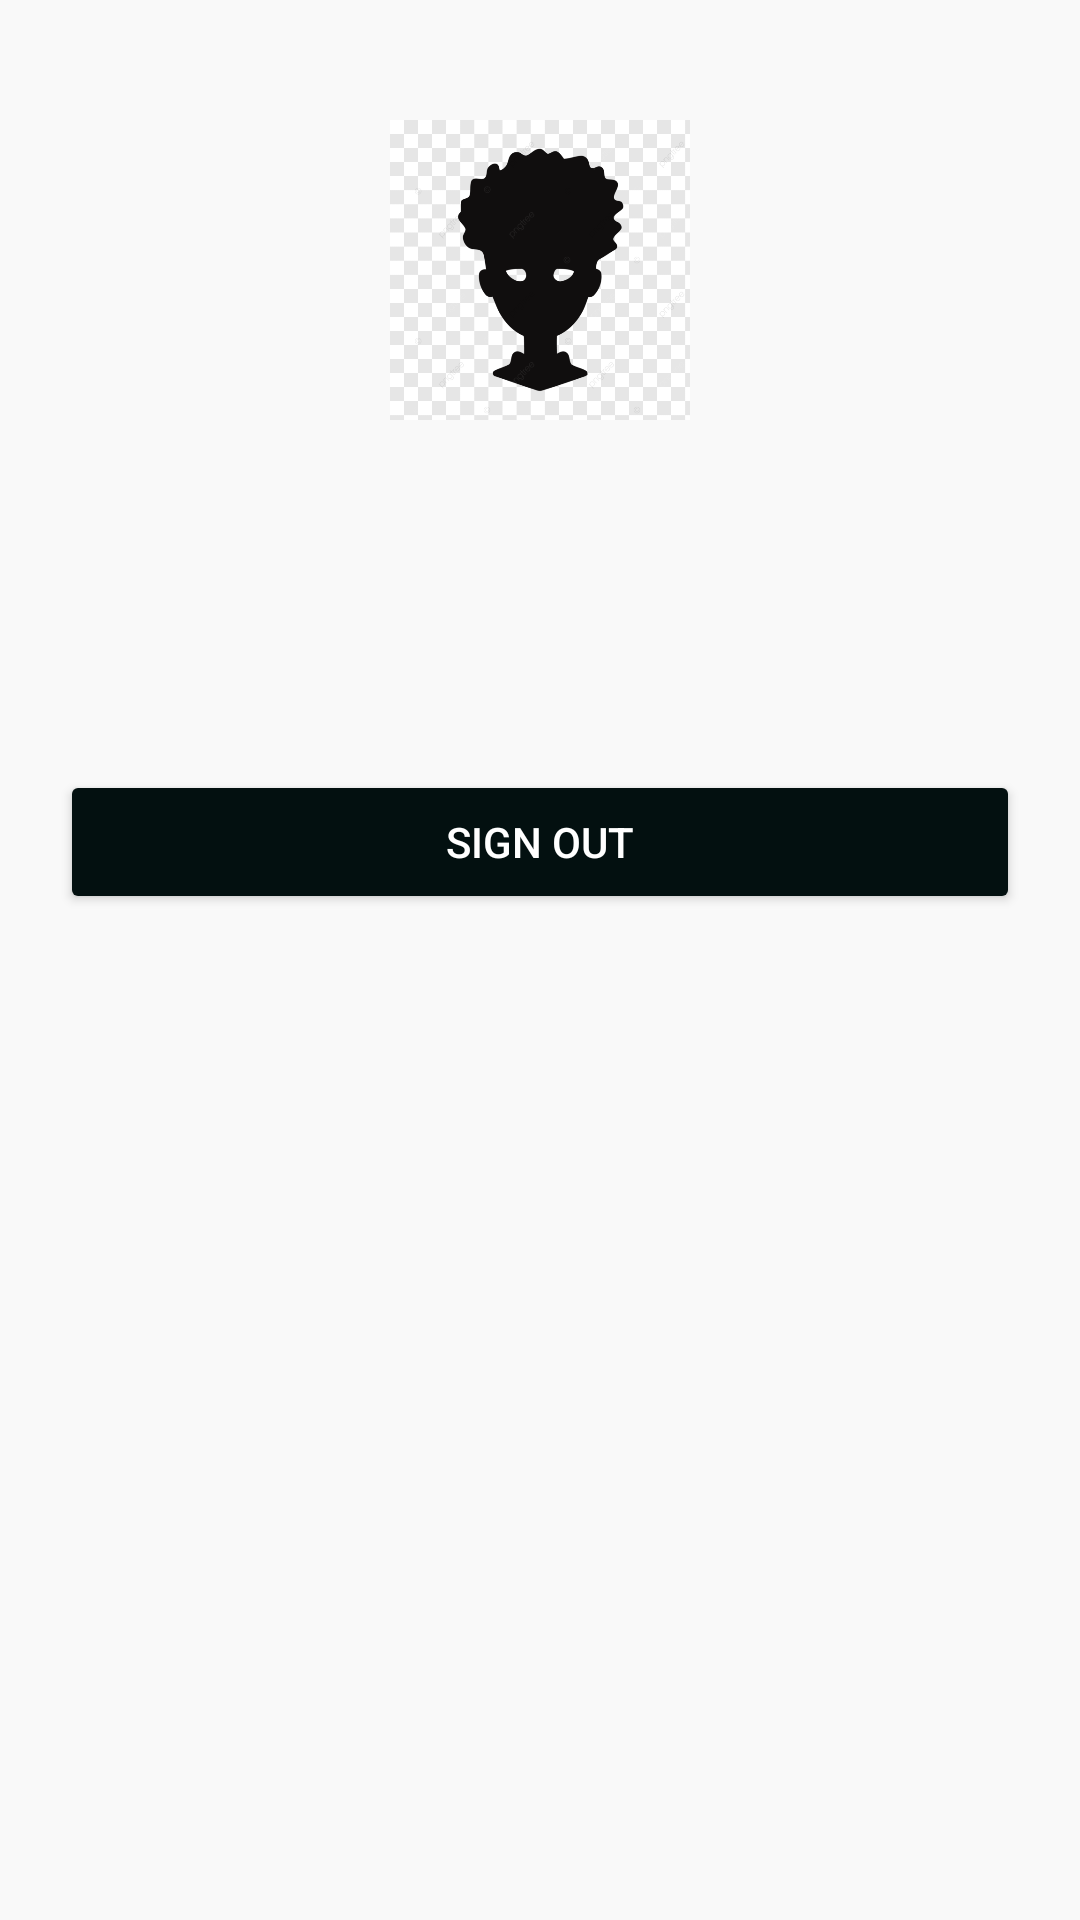

Point at icon controls on the screen. Image size 1080px x 1920px, points as (x,y).
profile: (549,277)
